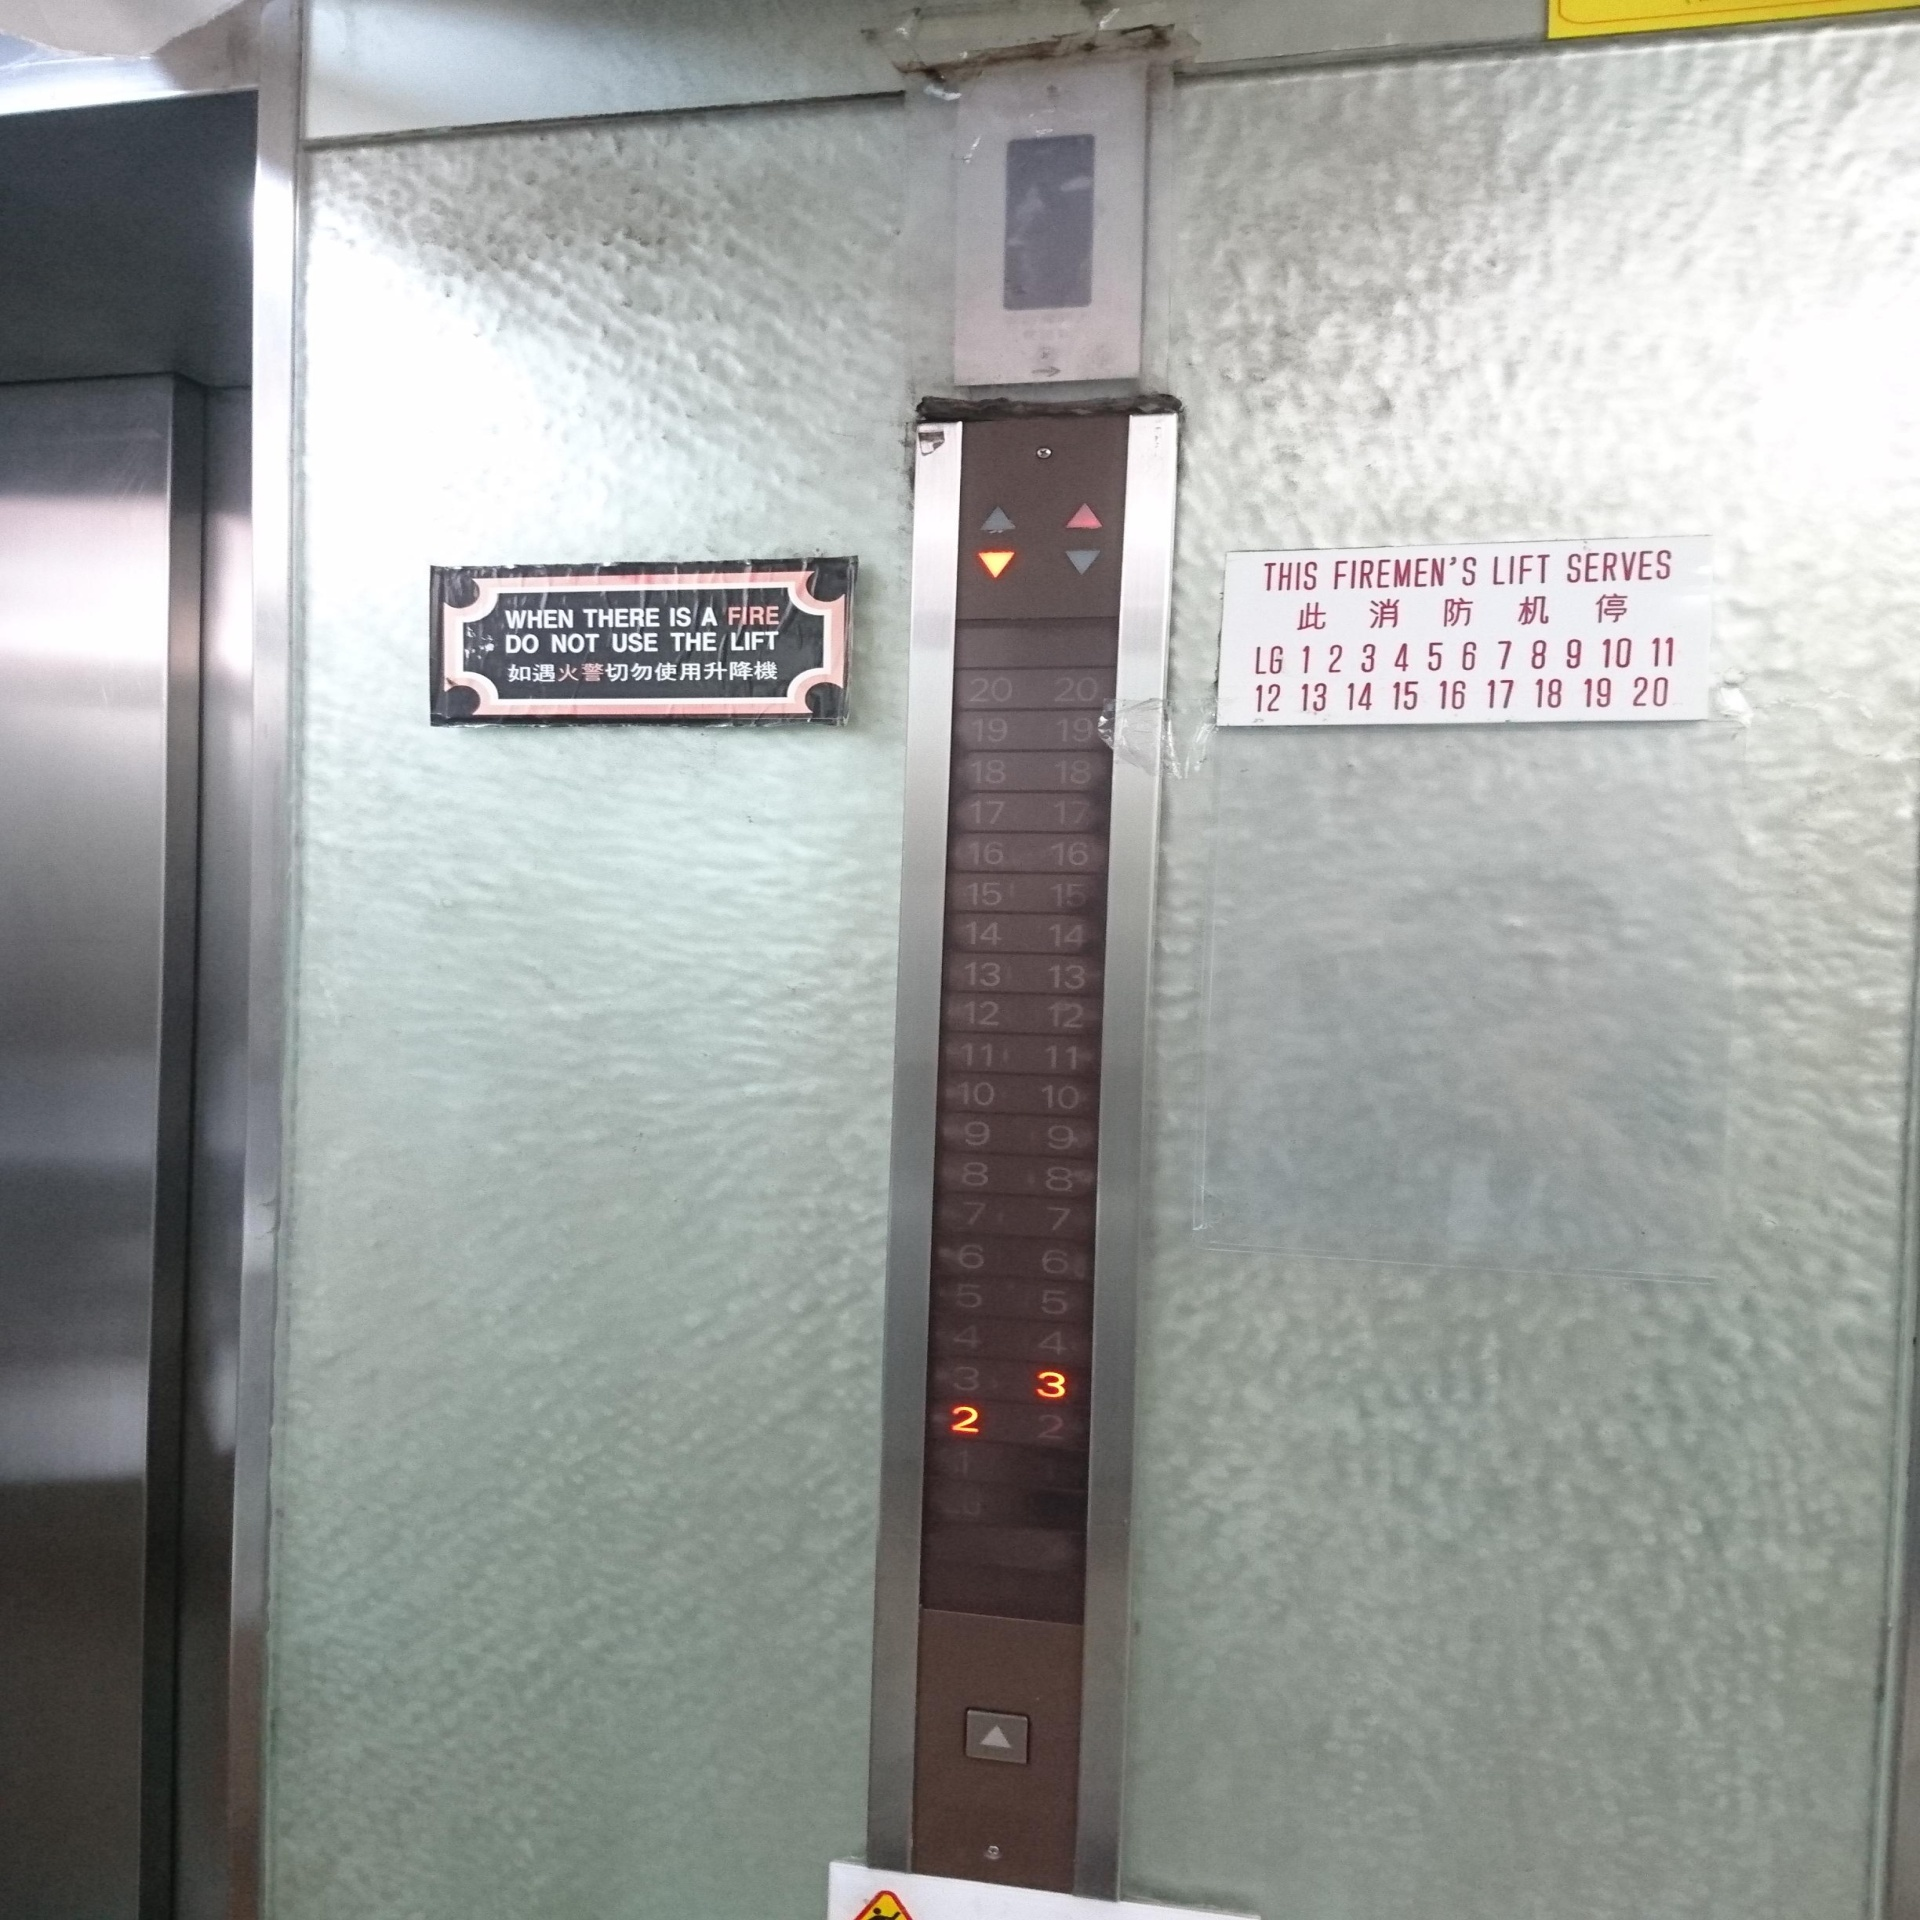1: (921, 1436, 1000, 1487)
10: (932, 1067, 1013, 1118), (1025, 1073, 1104, 1122)
11: (934, 1029, 1013, 1078), (1025, 1030, 1104, 1080)
12: (1027, 990, 1106, 1041), (935, 988, 1015, 1037)
13: (937, 948, 1018, 999), (1027, 949, 1108, 1000)
14: (939, 907, 1020, 958), (1030, 909, 1111, 958)
15: (941, 867, 1022, 918), (1030, 870, 1111, 920)
16: (942, 828, 1022, 877), (1032, 830, 1111, 879)
17: (1034, 788, 1113, 837), (944, 788, 1023, 835)
18: (946, 747, 1029, 796), (1036, 747, 1115, 796)
19: (948, 705, 1027, 754), (1036, 707, 1116, 753)
2: (1013, 1400, 1095, 1458), (921, 1394, 995, 1447)
20: (1037, 663, 1118, 714), (948, 665, 1020, 714)
3: (1015, 1357, 1095, 1414), (921, 1350, 1000, 1405)
4: (1016, 1315, 1097, 1373), (925, 1310, 997, 1363)
5: (1018, 1271, 1097, 1329), (925, 1269, 1000, 1322)
6: (1018, 1233, 1097, 1289), (927, 1229, 1004, 1282)
7: (1020, 1190, 1101, 1247), (927, 1190, 1002, 1240)
8: (1020, 1152, 1101, 1204), (928, 1148, 1006, 1197)
9: (932, 1108, 1013, 1159), (1022, 1111, 1102, 1162)
G: (918, 1479, 997, 1530)
up: (960, 1704, 1034, 1771)
